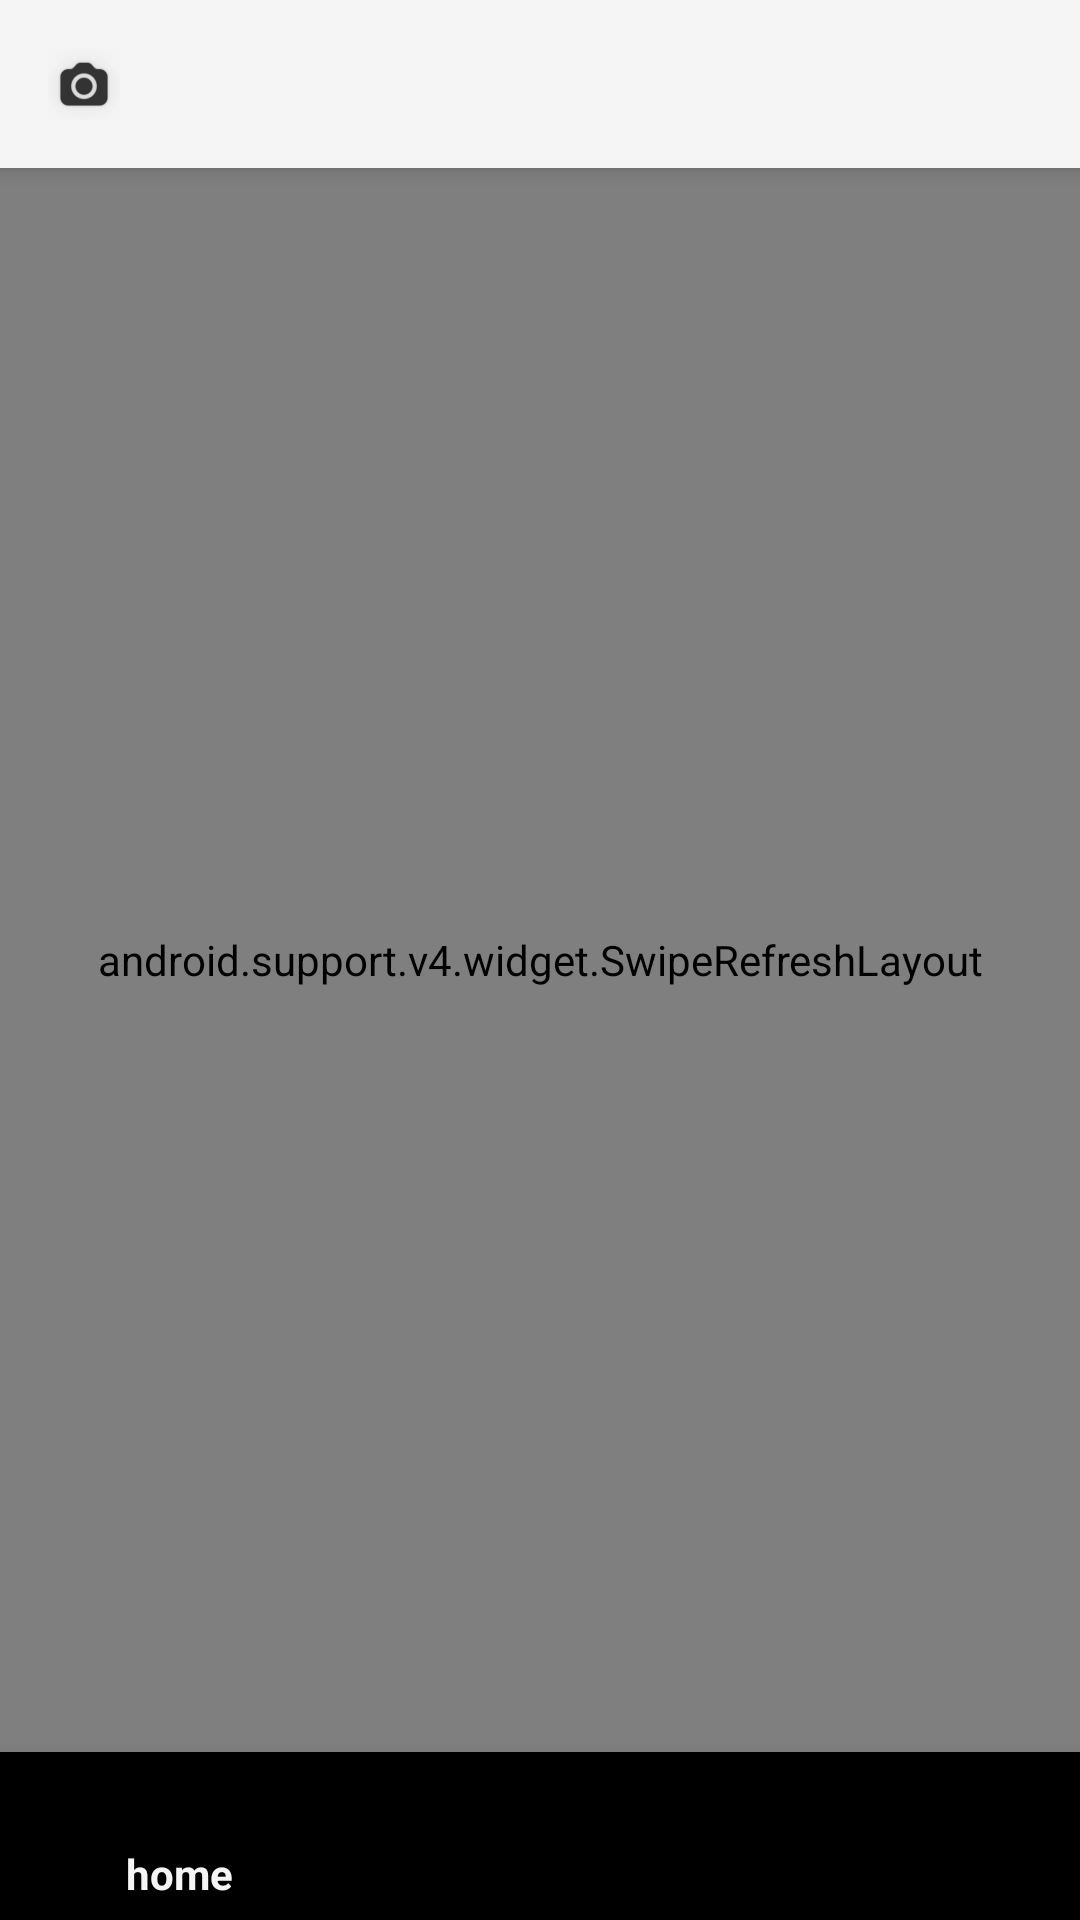

Icon click points for this 1080px×1920px phone screenshot, format [x,y]:
camera: [84,84]
